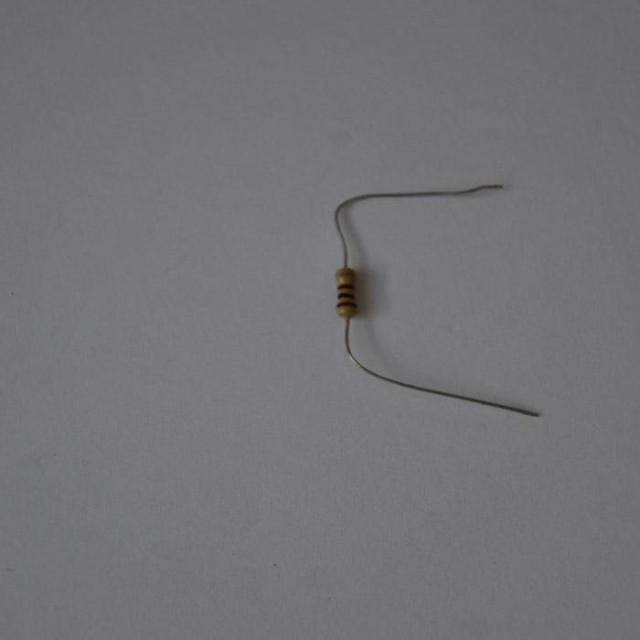Resistor: (334, 184, 539, 417)
